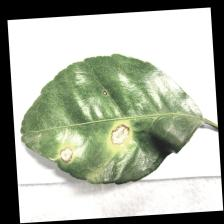canker: (48, 121, 140, 170)
